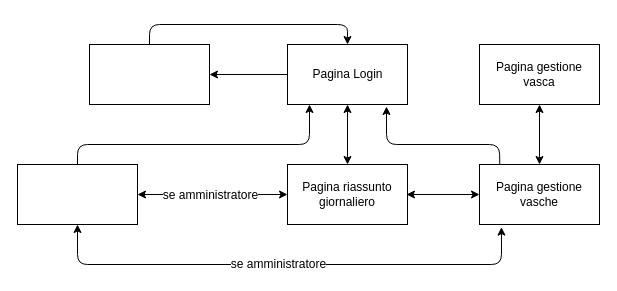
Image size: 617x291. Some labels were removed from this diagram. Here are the shapes that lost their labels. From the top down, the centre of each, then its label:
At (149,74): "Pagina nuova password".
At (77,194): "Pagina gestione utenti".
